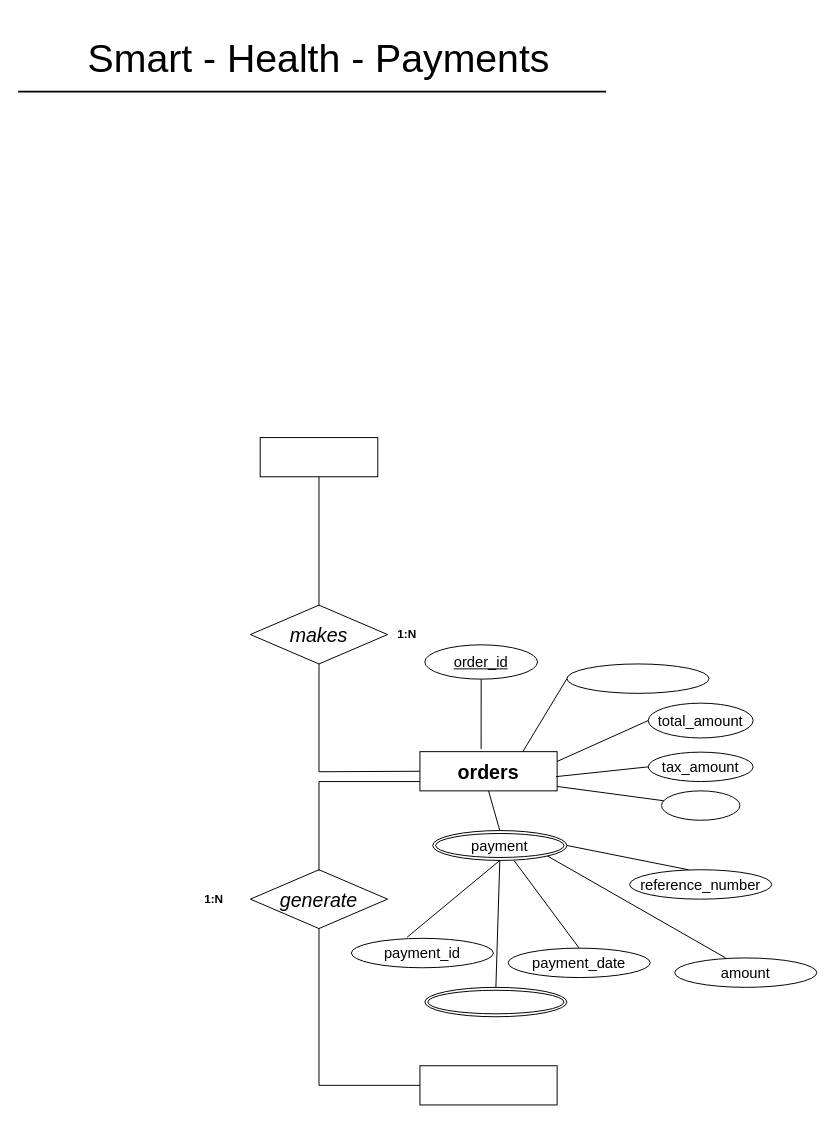
Image size: 834x1122. Some labels were removed from this diagram. Each missing label, with the centre of its shape:
"appointments" belongs at [488,1085].
"order_date" belongs at [637,678].
"patients" belongs at [318,457].
"payment_method" belongs at [495,1001].
"status" belongs at [700,805].
